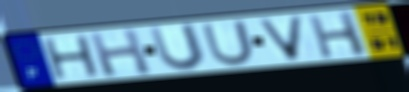H: (86, 27, 156, 79), (305, 9, 371, 60), (40, 33, 104, 82)
U: (146, 21, 209, 73), (199, 19, 257, 67)
V: (254, 15, 307, 62)
